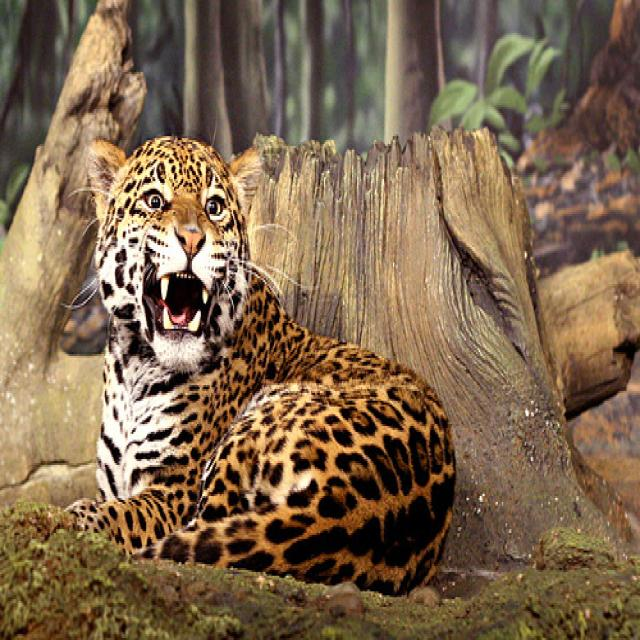Leopard: (63, 136, 457, 592)
